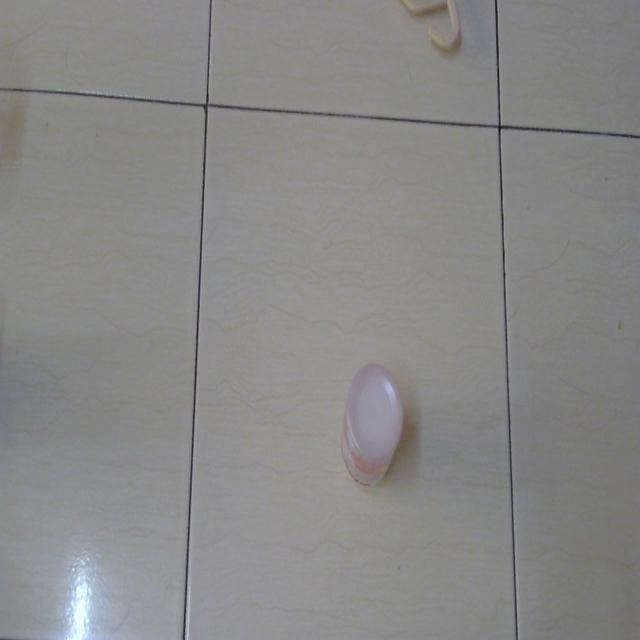plastic_standrotation: (339, 356, 407, 498)
